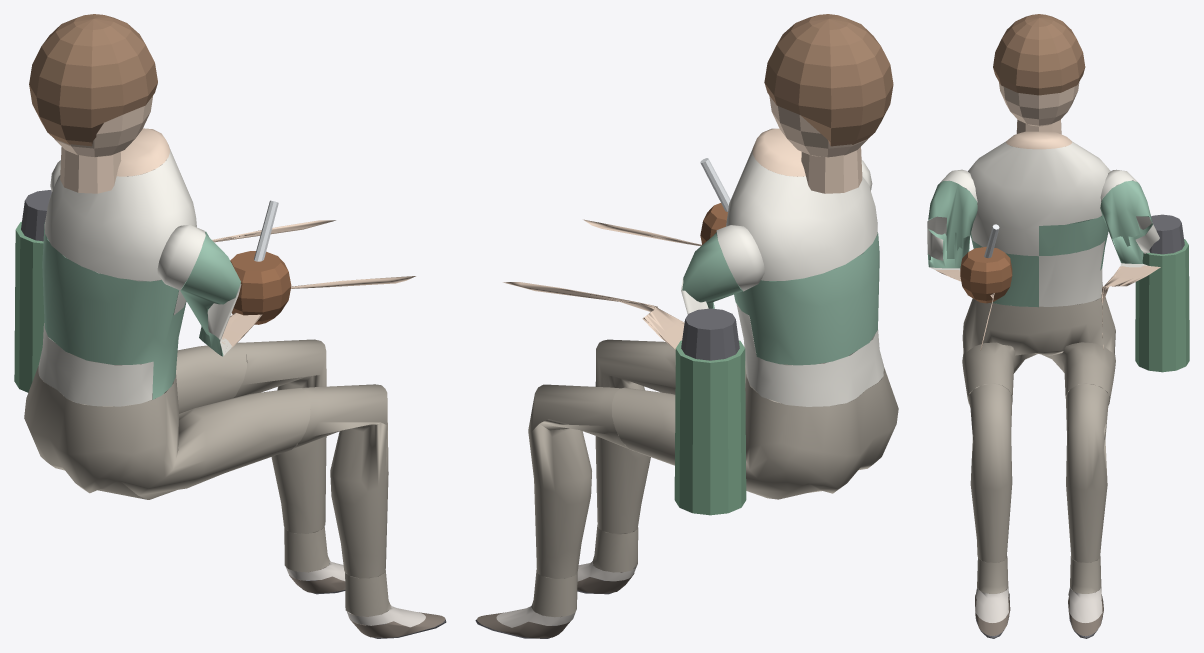
Rendered from rambla_seated_3.glb.
3 renders of one model, left to right at view 1: azimuth 30°, elevation 25°; view 2: azimuth 150°, elevation 25°; view 3: azimuth 270°, elevation 25°, orthographic. The views are drawn at different scales.
Visible parts, largest first — view 1: rider_torso; view 2: rider_torso; view 3: rider_torso.
Boxes of the visible parts, bbox=[...] form: rider_torso: bbox=[14, 14, 446, 638]; rider_torso: bbox=[475, 14, 898, 638]; rider_torso: bbox=[927, 14, 1189, 638].
Bounding box in the file's own units: 0.7582 × 1.25 × 0.5962.
